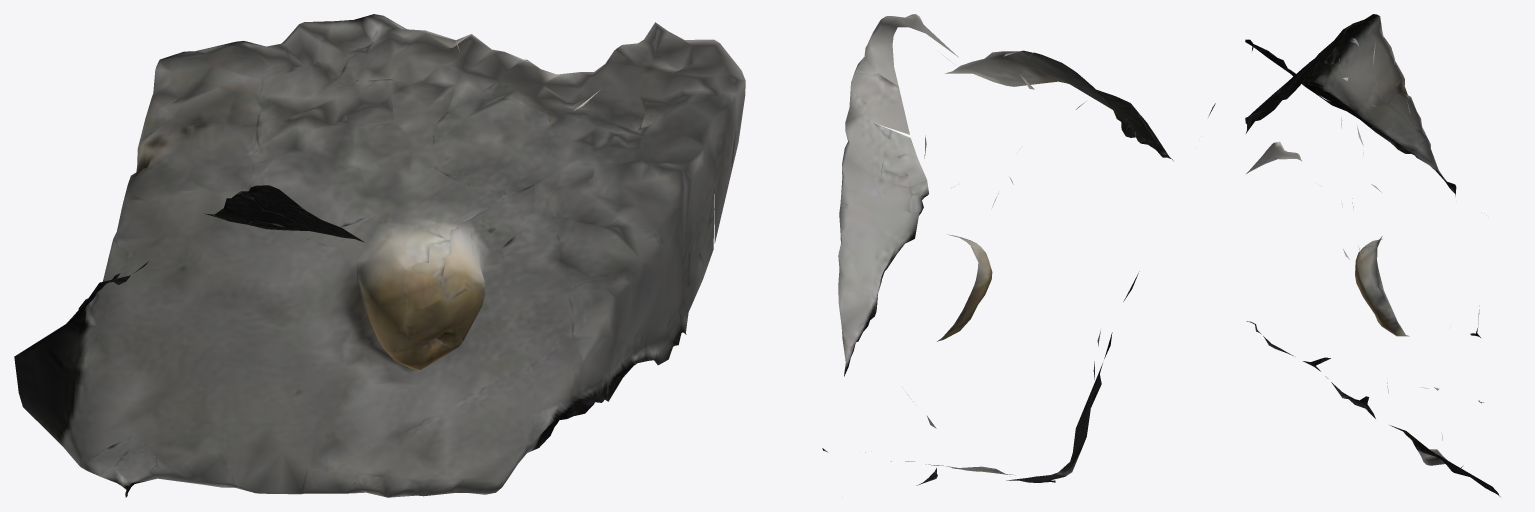
Rendered from hall.glb.
3 renders of one model, left to right at view 1: azimuth 30°, elevation 25°; view 2: azimuth 150°, elevation 25°; view 3: azimuth 270°, elevation 25°, orthographic. The views are drawn at different scales.
Bounding box in the file's own units: 0.4874 × 0.5453 × 0.3624.
Materials: 1 (1 with a texture image).
